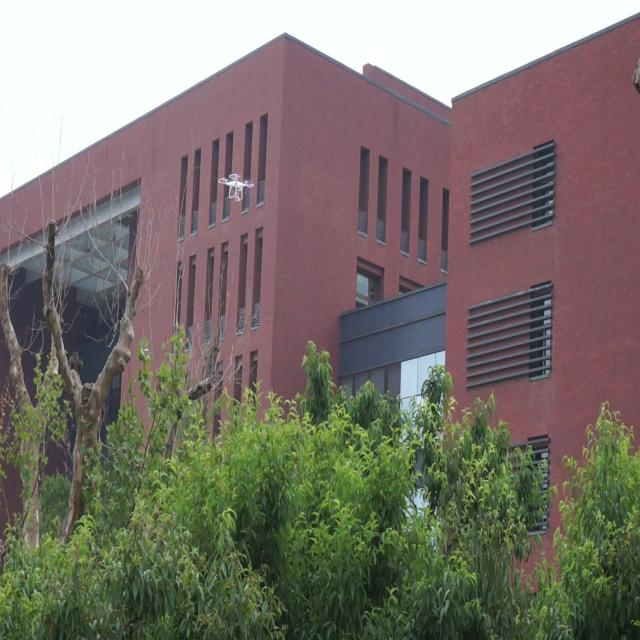UAV: (218, 173, 254, 201)
